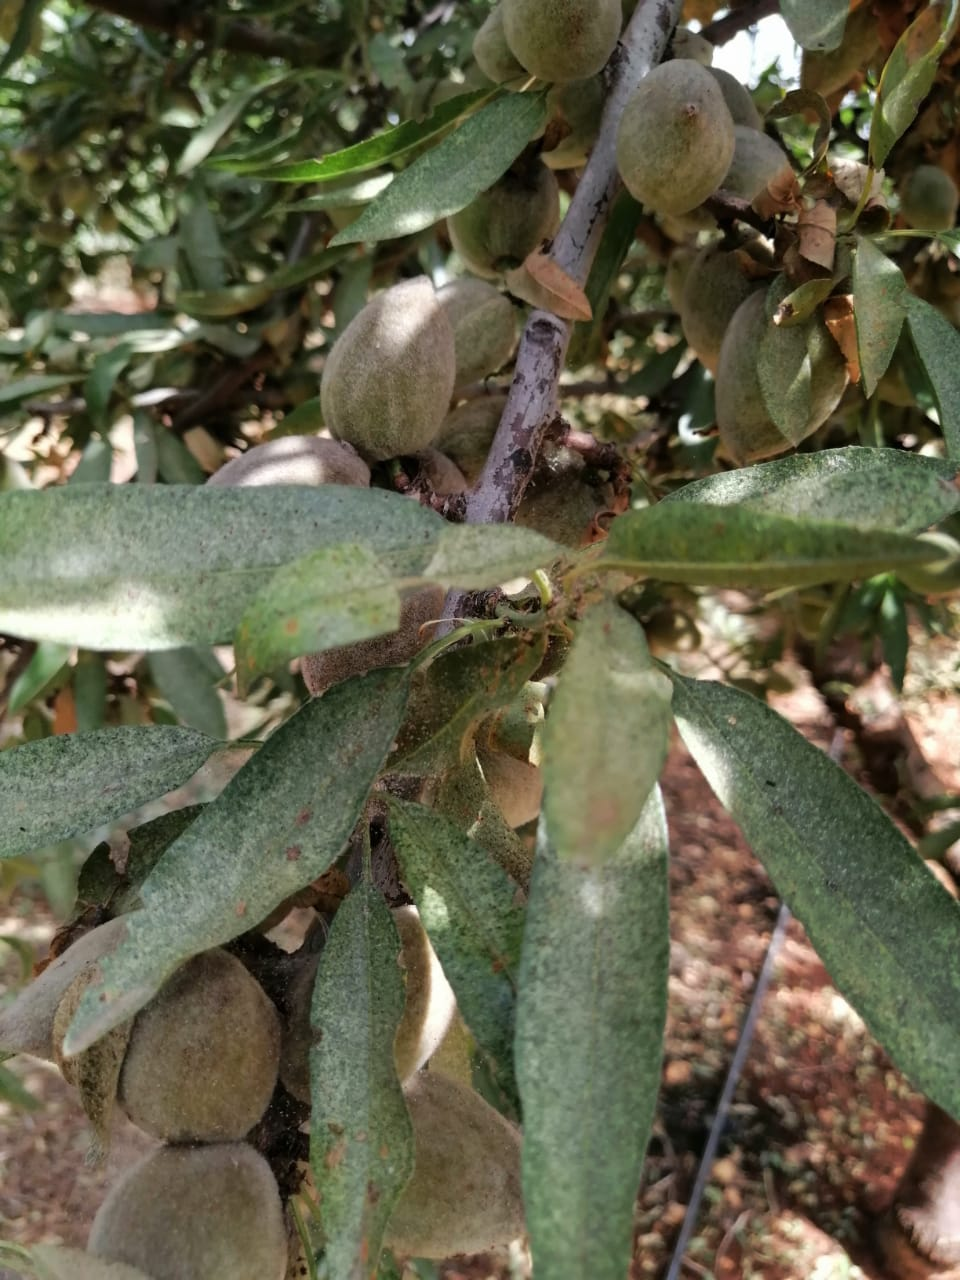acariens: (57, 664, 421, 1069), (671, 669, 960, 1125), (510, 779, 671, 1280), (1, 483, 457, 654), (305, 880, 418, 1280), (1, 723, 228, 852)
